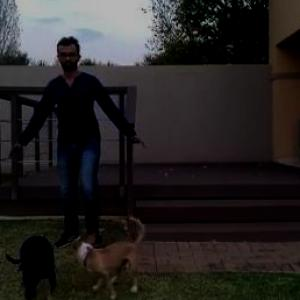land: (17, 35, 146, 258)
